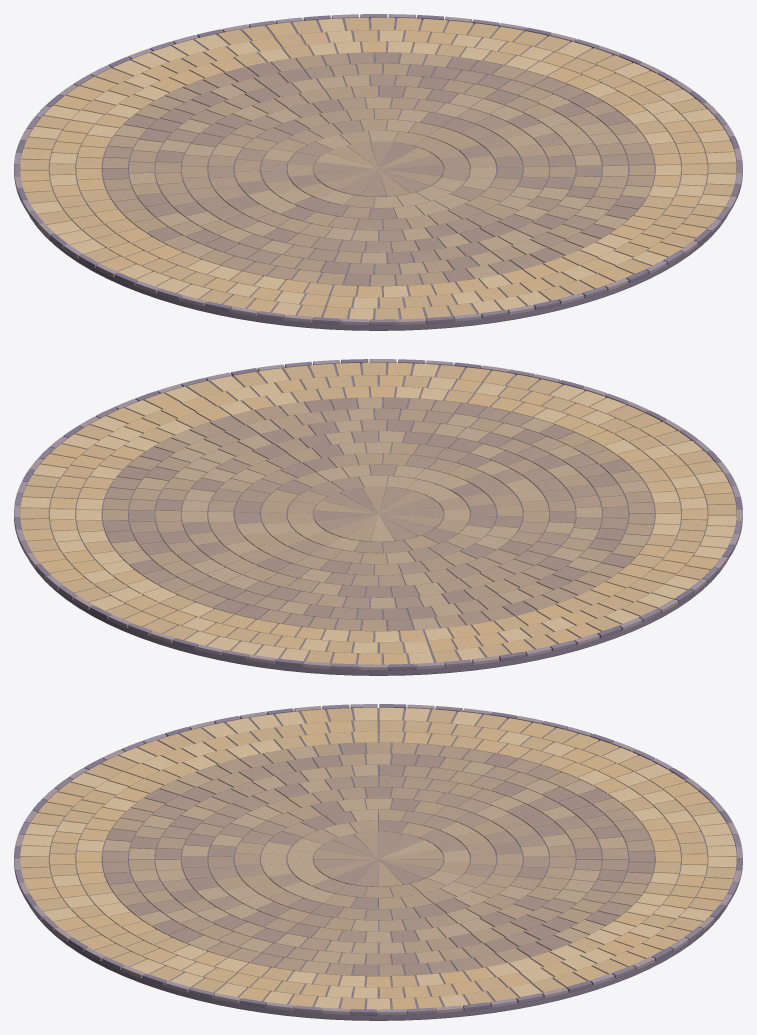
Rendered from Plaza_Paving.glb.
3 renders of one model, top to bottom at view 1: azimuth 30°, elevation 25°; view 2: azimuth 150°, elevation 25°; view 3: azimuth 270°, elevation 25°, orthographic.
Parts seen in each view (by area): view 1: Plaza_Paving, Plaza_Paving__Curb, Plaza_Paving__Foundation; view 2: Plaza_Paving, Plaza_Paving__Curb, Plaza_Paving__Foundation; view 3: Plaza_Paving, Plaza_Paving__Curb, Plaza_Paving__Foundation.
Part boxes in pixels (x1,y1,x2,y2): Plaza_Paving: (20,17,736,321); Plaza_Paving__Curb: (14,14,742,325); Plaza_Paving__Foundation: (29,18,727,330); Plaza_Paving: (20,362,736,666); Plaza_Paving__Curb: (14,359,742,670); Plaza_Paving__Foundation: (29,363,727,675); Plaza_Paving: (20,707,736,1011); Plaza_Paving__Curb: (14,704,742,1015); Plaza_Paving__Foundation: (29,708,727,1020).
Size of the model in its own units: 82.9 by 1.38 by 82.9.
